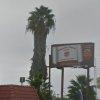Palm tree: (19, 4, 57, 87)
